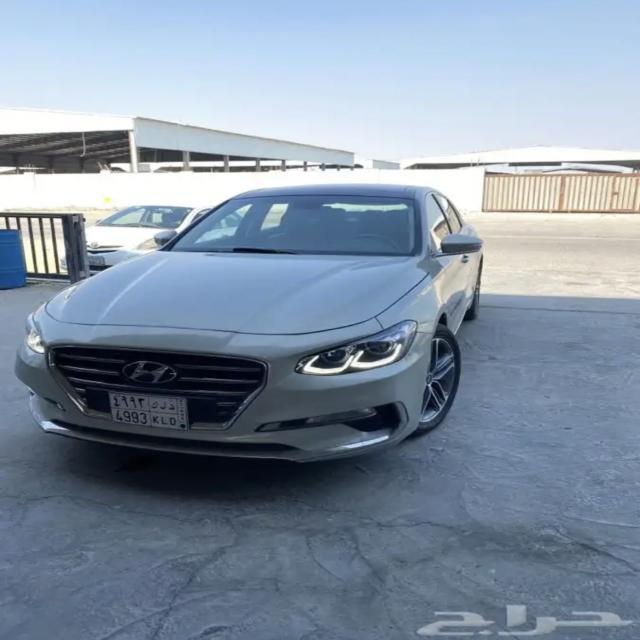license_plate: (109, 391, 191, 432)
